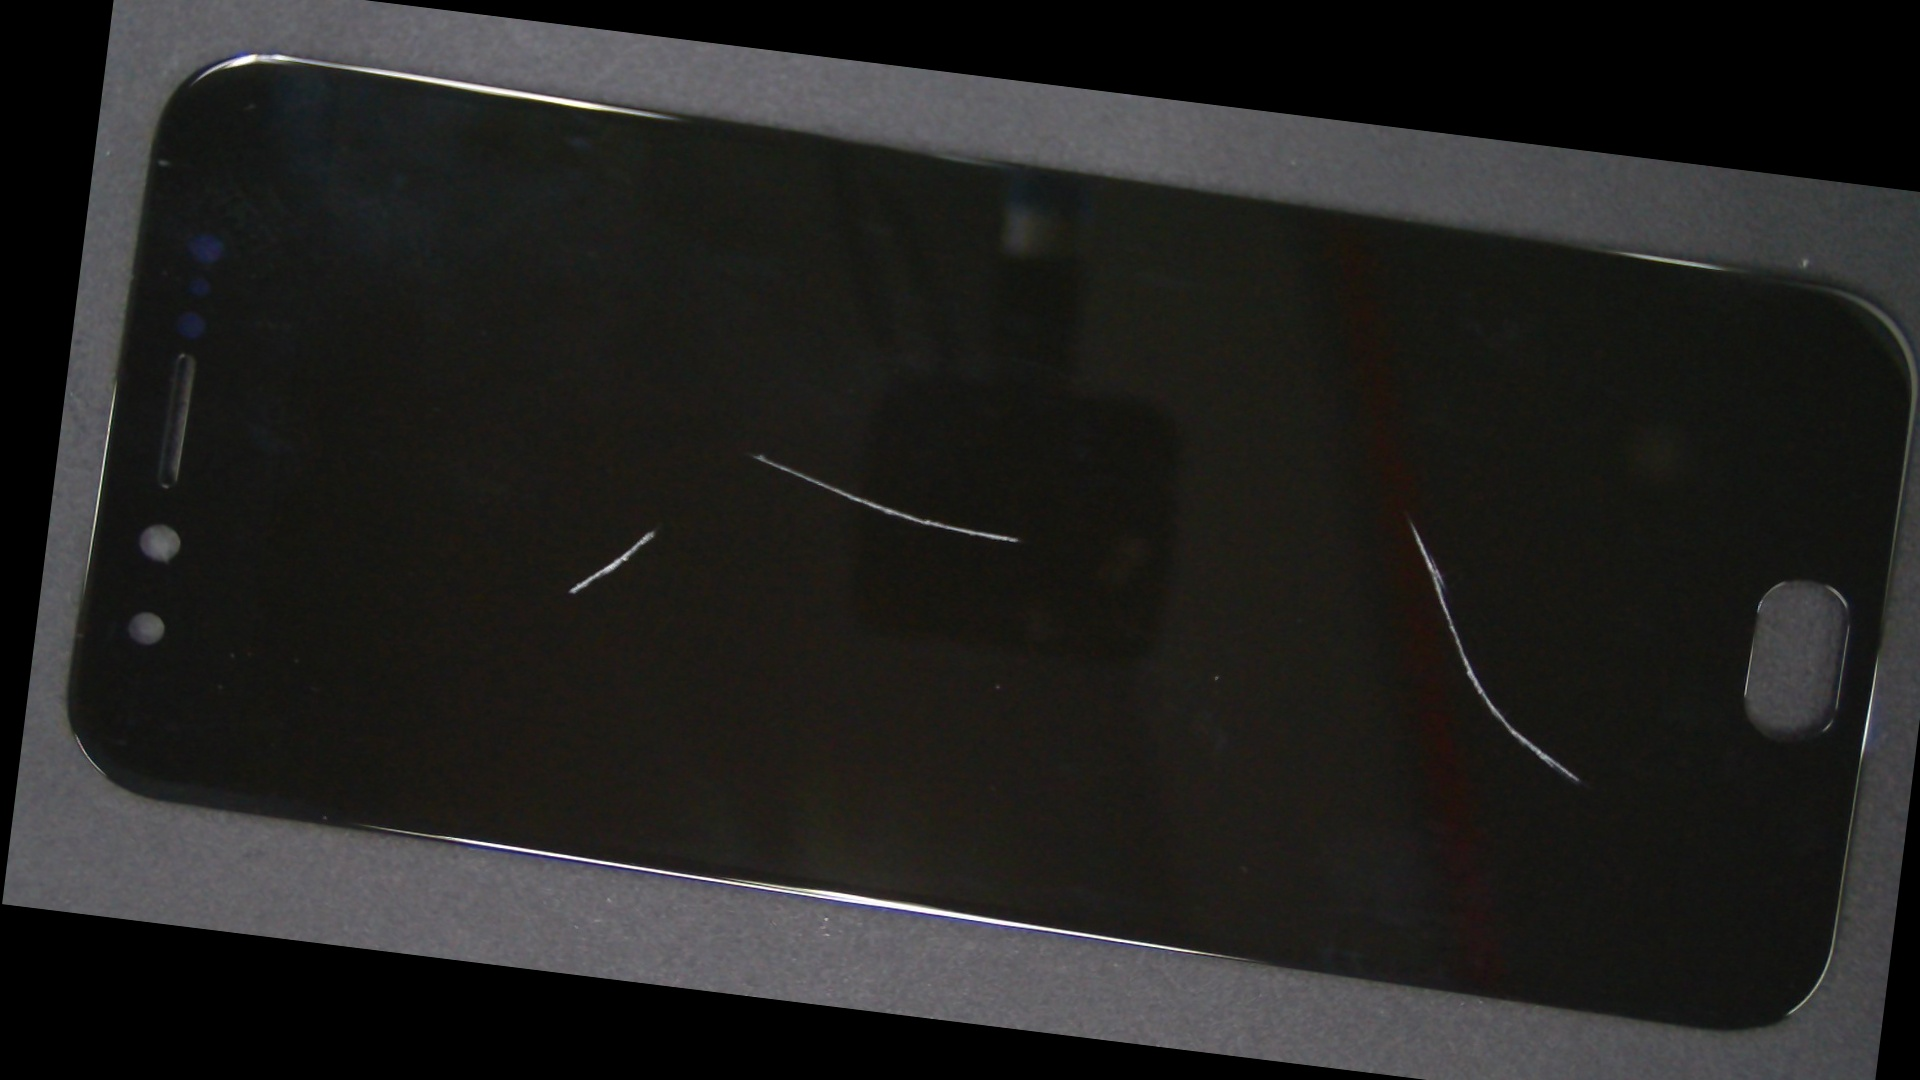oil: (716, 244, 1920, 778), (326, 248, 975, 812), (390, 211, 1131, 696)
